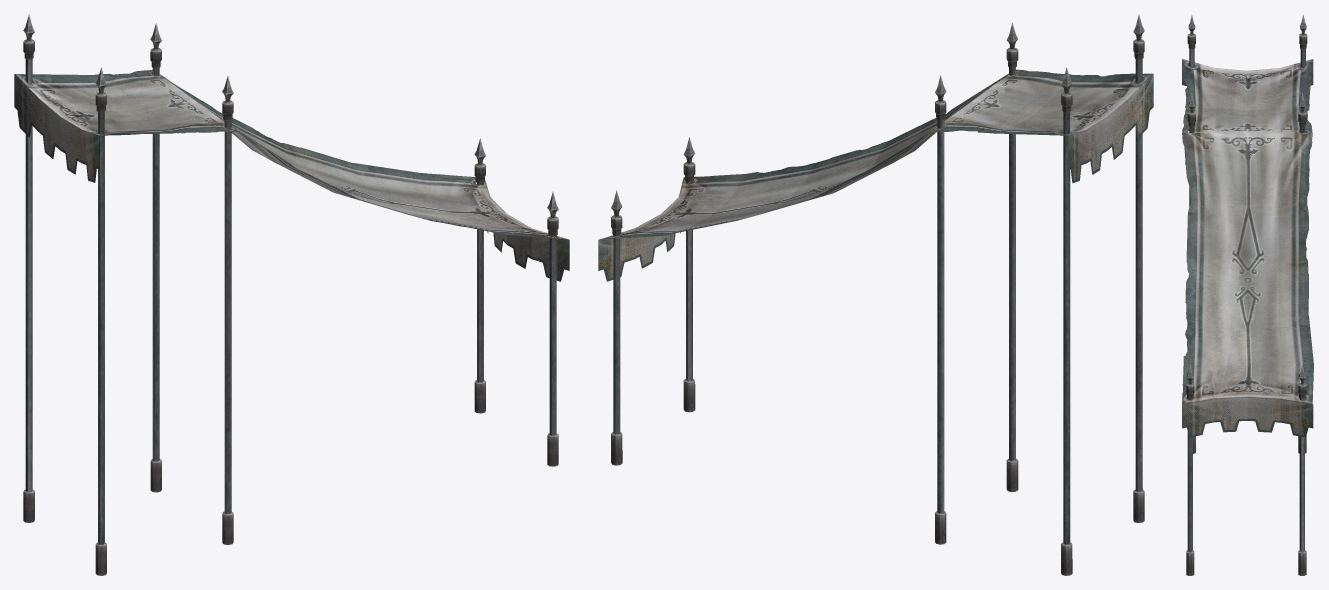
Rendered from bg_lut_lucastle_tent05_sm_msj.FBX.
3 views of the same model, side by side, from view 1: azimuth 30°, elevation 25°; view 2: azimuth 150°, elevation 25°; view 3: azimuth 270°, elevation 25° (orthographic). The views are drawn at different scales.
Visible parts, largest first — view 1: bg_lut_lucastle_tent05_sm_msj; view 2: bg_lut_lucastle_tent05_sm_msj; view 3: bg_lut_lucastle_tent05_sm_msj.
Part boxes in pixels (left/top/right/bottom): bg_lut_lucastle_tent05_sm_msj: left=14, top=14, right=569, bottom=575; bg_lut_lucastle_tent05_sm_msj: left=598, top=14, right=1153, bottom=575; bg_lut_lucastle_tent05_sm_msj: left=1182, top=15, right=1313, bottom=575.
Bounding box in the file's own units: 510 × 525 × 162.
